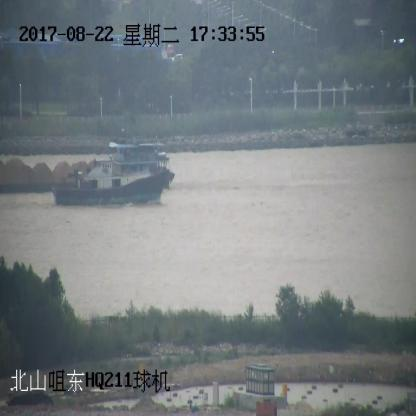Fishing Boat: (52, 159, 166, 207)
